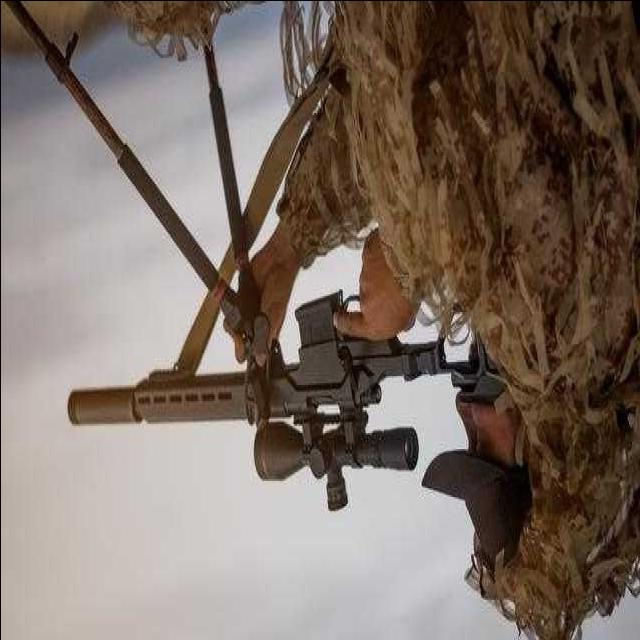heavyweapon: (58, 259, 490, 512)
